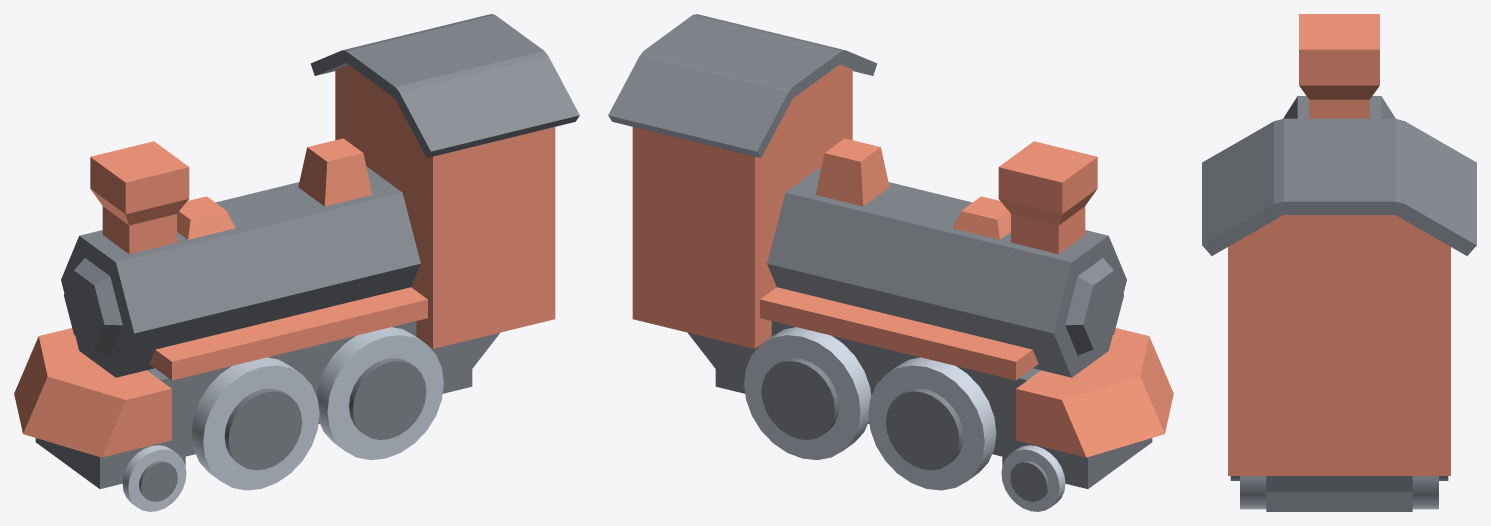
The model's file is trainLocomotive.glb.
3 views of the same model, side by side, from view 1: azimuth 30°, elevation 25°; view 2: azimuth 150°, elevation 25°; view 3: azimuth 270°, elevation 25° (orthographic). The views are drawn at different scales.
Visible parts, largest first — view 1: trainLocomotive(Clone), wheel; view 2: trainLocomotive(Clone), wheel; view 3: trainLocomotive(Clone), wheel (×2).
Boxes of the visible parts, bbox=[...] form: trainLocomotive(Clone): bbox=[14, 14, 579, 488]; wheel: bbox=[122, 327, 443, 511]; trainLocomotive(Clone): bbox=[608, 14, 1173, 488]; wheel: bbox=[744, 327, 1065, 511]; trainLocomotive(Clone): bbox=[1202, 14, 1476, 511]; wheel (×2): bbox=[1230, 476, 1448, 509].
Bounding box in the file's own units: 0.4147 × 0.2796 × 0.1741.
